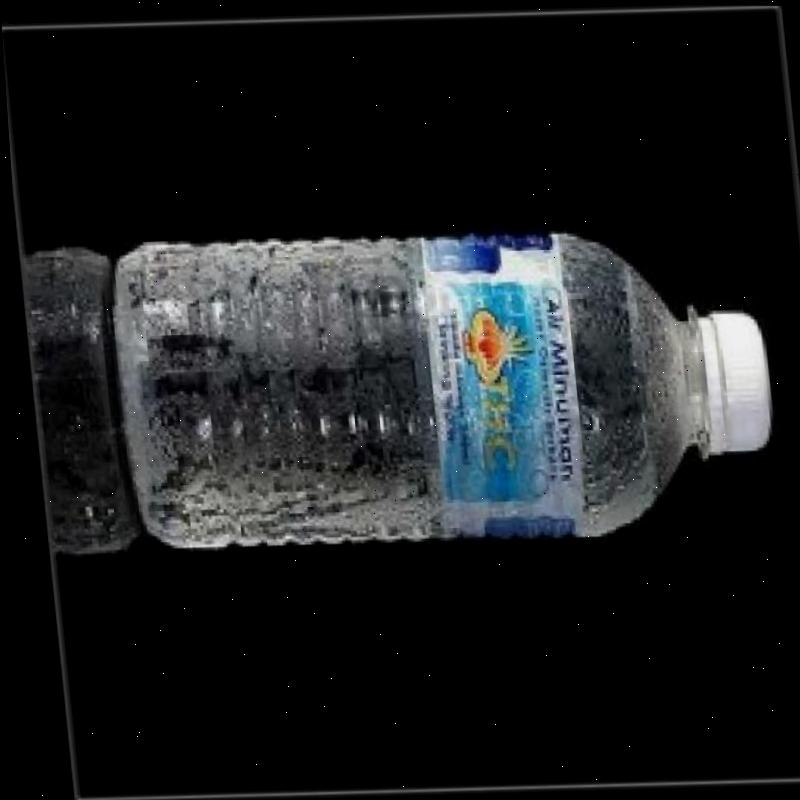botella: (97, 212, 780, 554)
